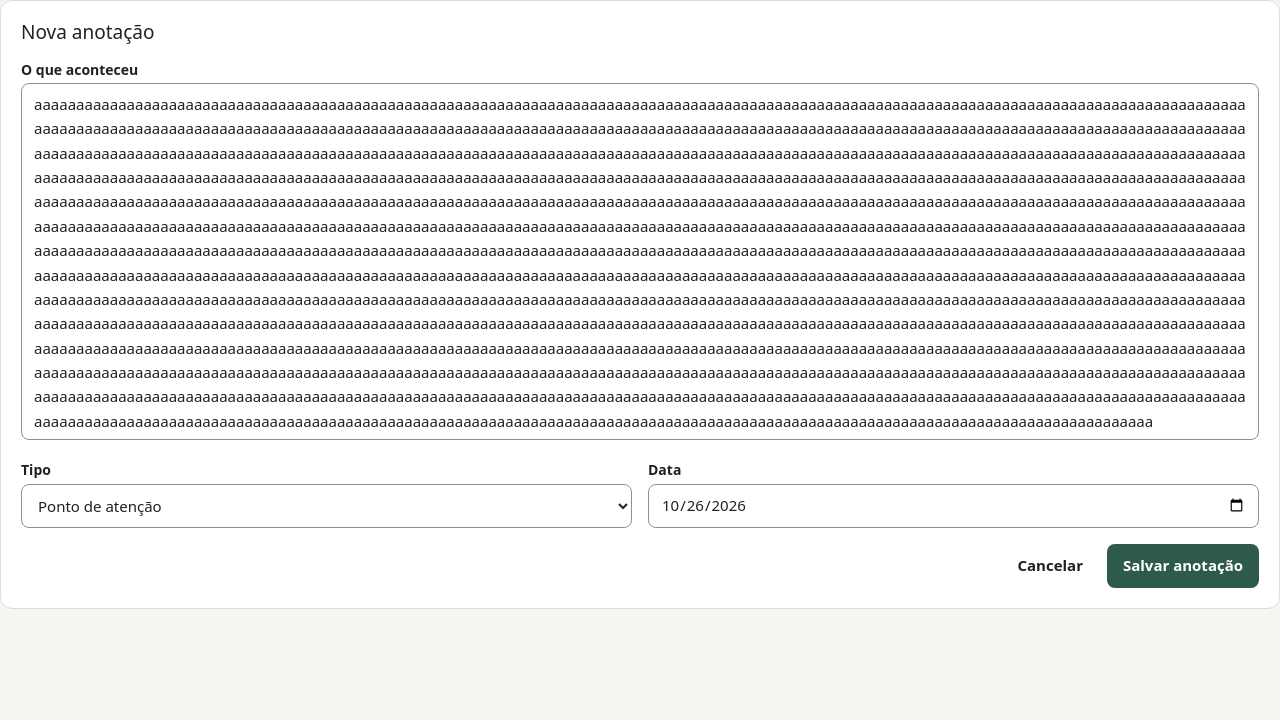
Scenario: NoteForm › deve avisar quanto passou do limite
What coordinates should you click on to do the following:
click the button "Salvar anotação"
I would click on:
 (1183, 566)
Its box is [1107,544,1259,588].
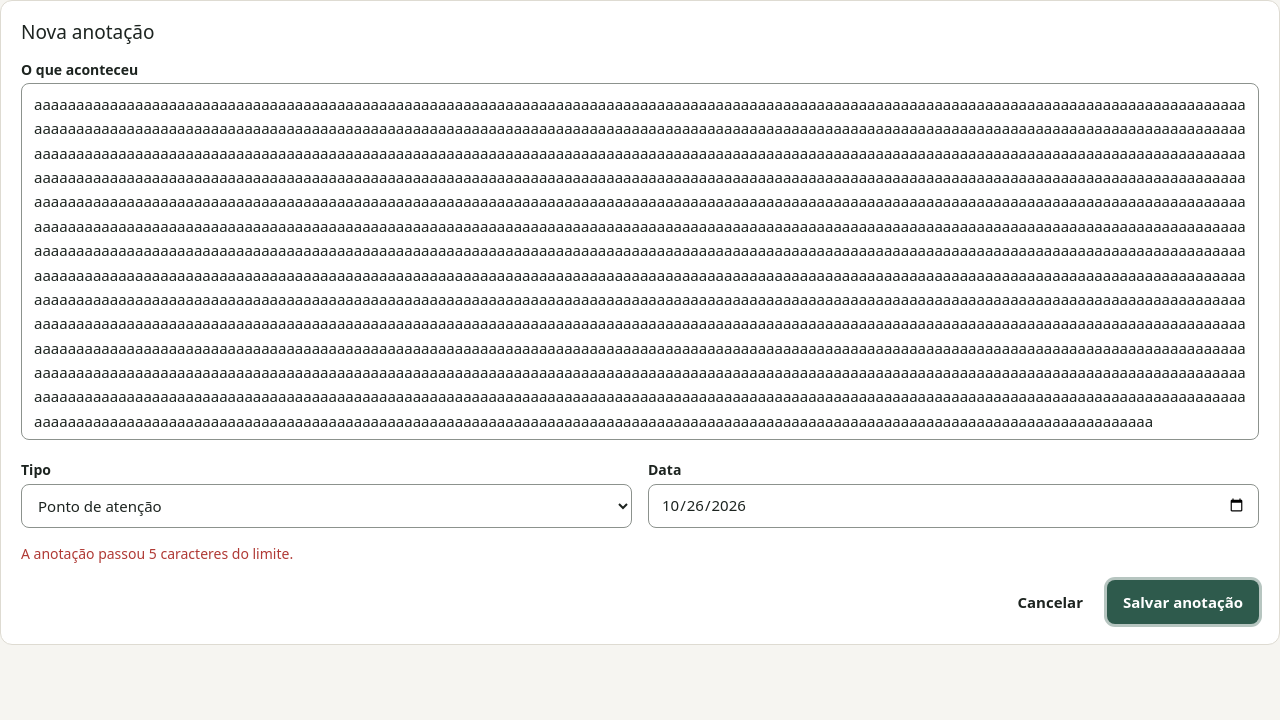
Check: the message shows "5 caracteres", box [21,544,293,563]
